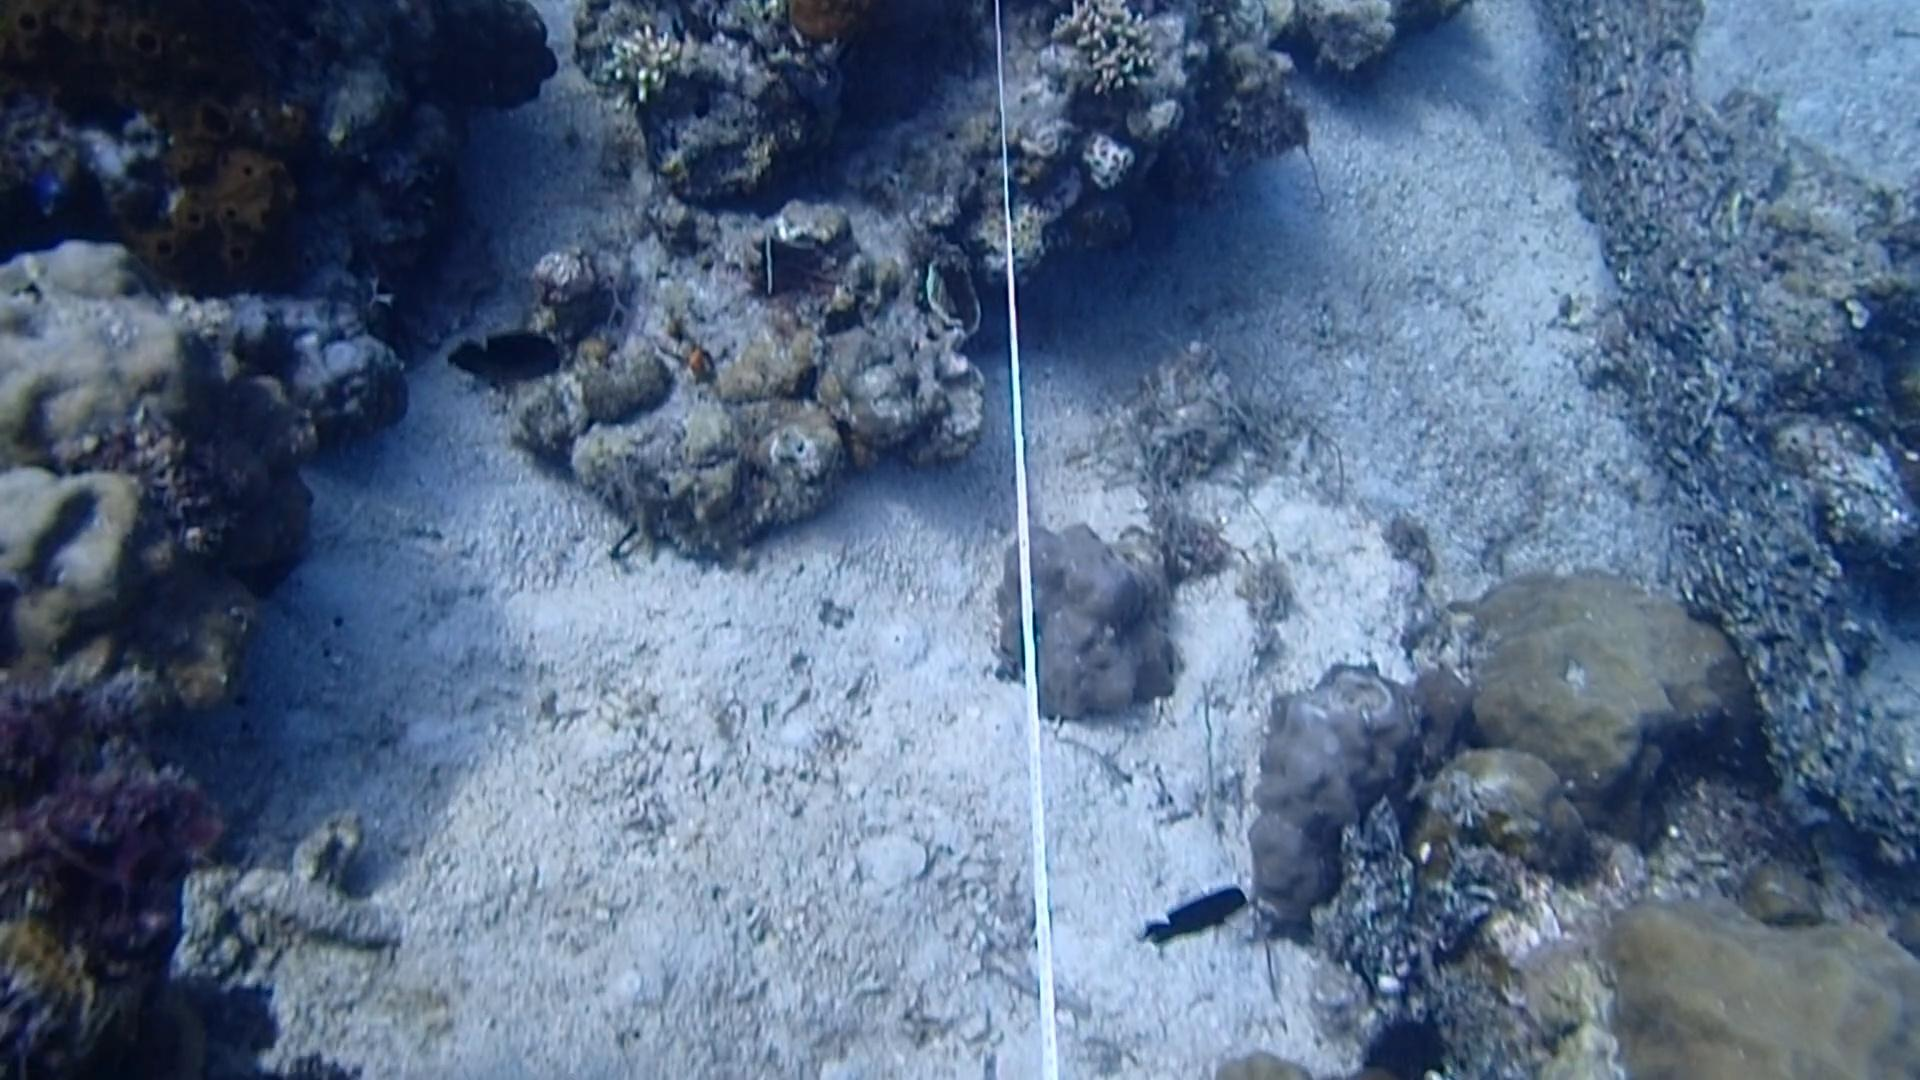Big Dark Blue Fish: (436, 318, 574, 394)
Dark Fish: (1131, 873, 1258, 948)
